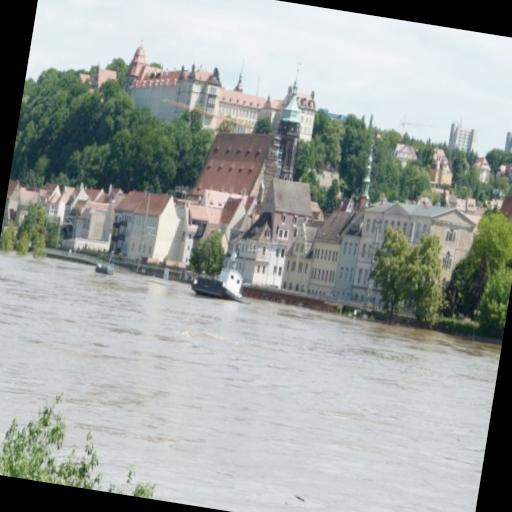flood: (0, 253, 501, 512)
house: (350, 196, 476, 294), (184, 120, 272, 260), (234, 169, 319, 299), (120, 37, 212, 124), (110, 184, 190, 274), (306, 208, 348, 300), (67, 188, 117, 258), (36, 178, 78, 252), (214, 86, 268, 138), (496, 190, 512, 232)
